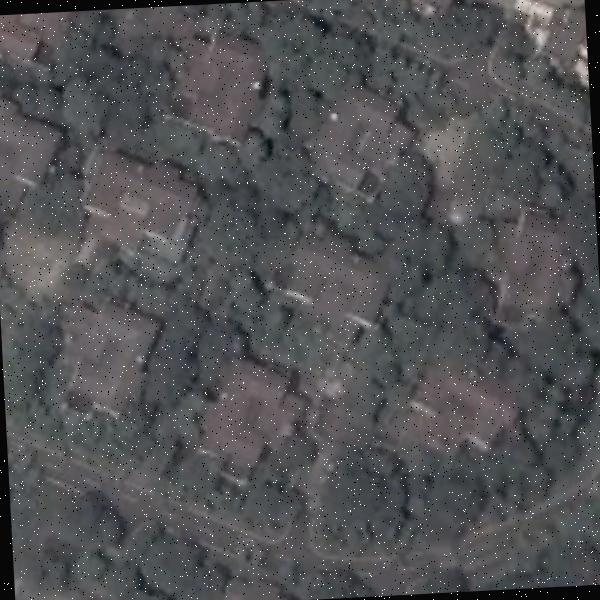Buildings: (74, 149, 206, 249), (66, 287, 154, 400), (200, 362, 301, 459), (308, 100, 418, 188), (401, 369, 508, 454), (496, 212, 574, 326), (184, 27, 266, 132), (282, 236, 382, 318), (0, 101, 44, 183), (0, 13, 50, 68)
